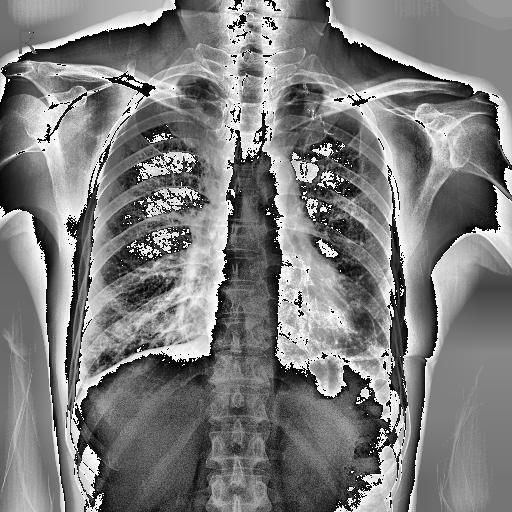10- Pleural effusion: (379, 326, 401, 378)
11- Pleural thickening: (316, 78, 360, 108), (379, 326, 401, 378), (158, 74, 206, 88), (206, 79, 222, 100)
13- Pulmonary fibrosis: (346, 290, 395, 360), (354, 301, 392, 352), (363, 313, 381, 343)
9- Other lesion: (296, 77, 338, 136), (298, 82, 333, 138)
